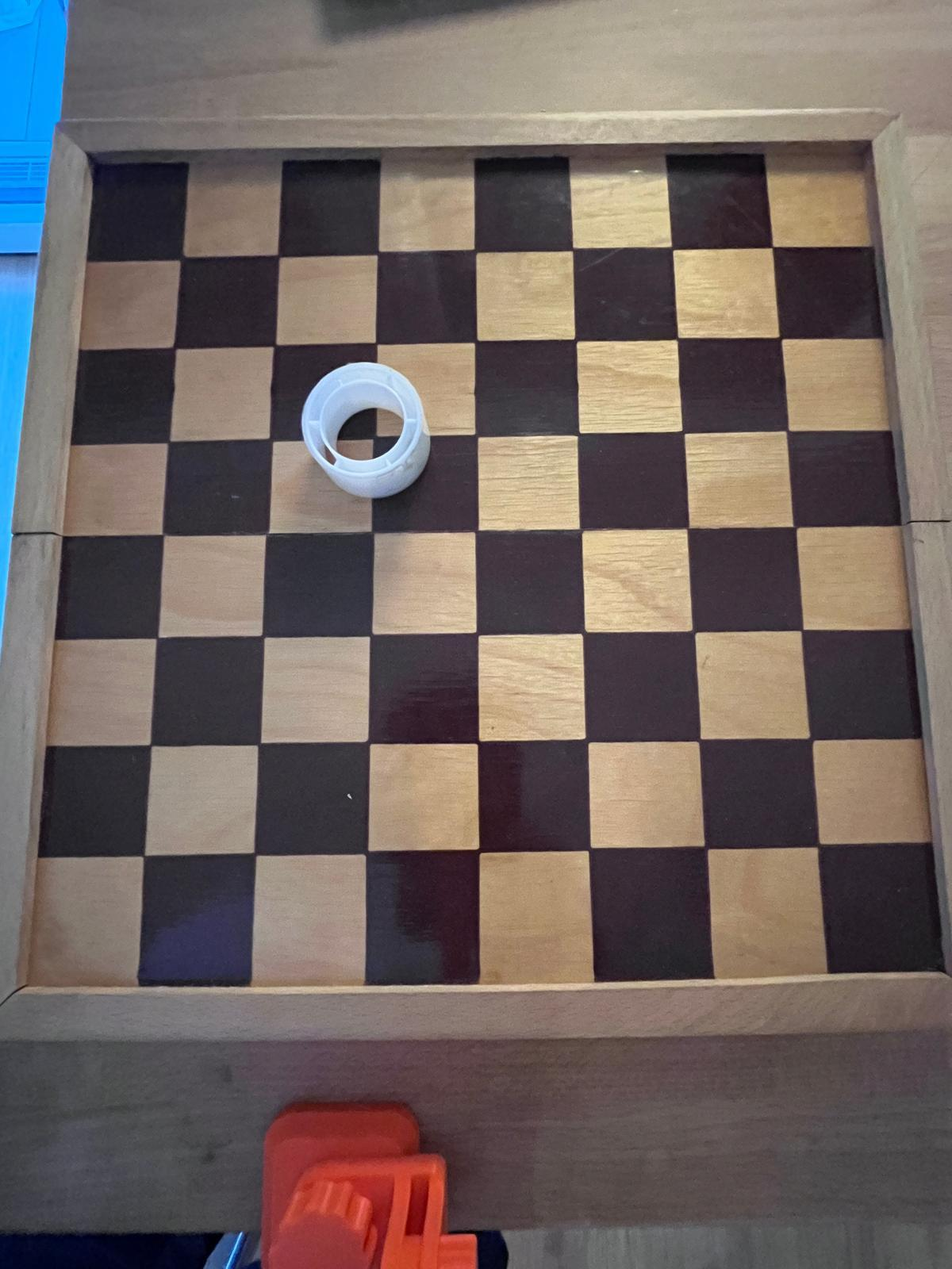tape: (295, 363, 432, 495)
